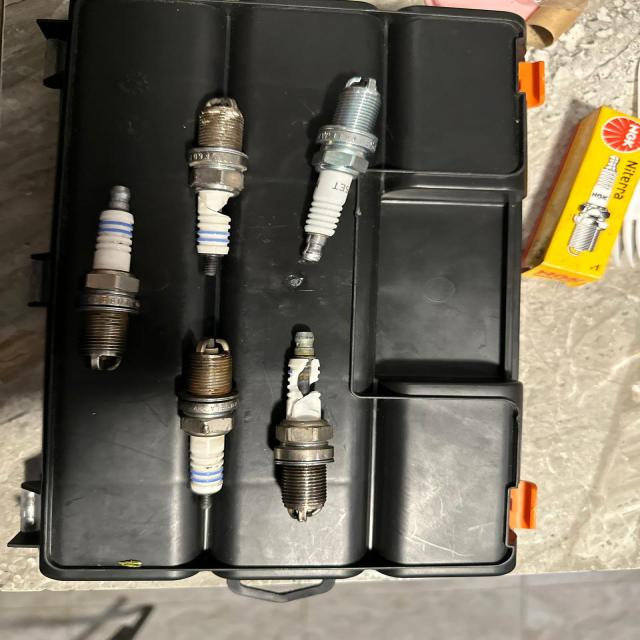damaged_spark-plug: (174, 82, 251, 292), (272, 317, 342, 526)
spark-plug: (296, 62, 384, 281), (77, 178, 154, 380), (178, 332, 250, 513)
